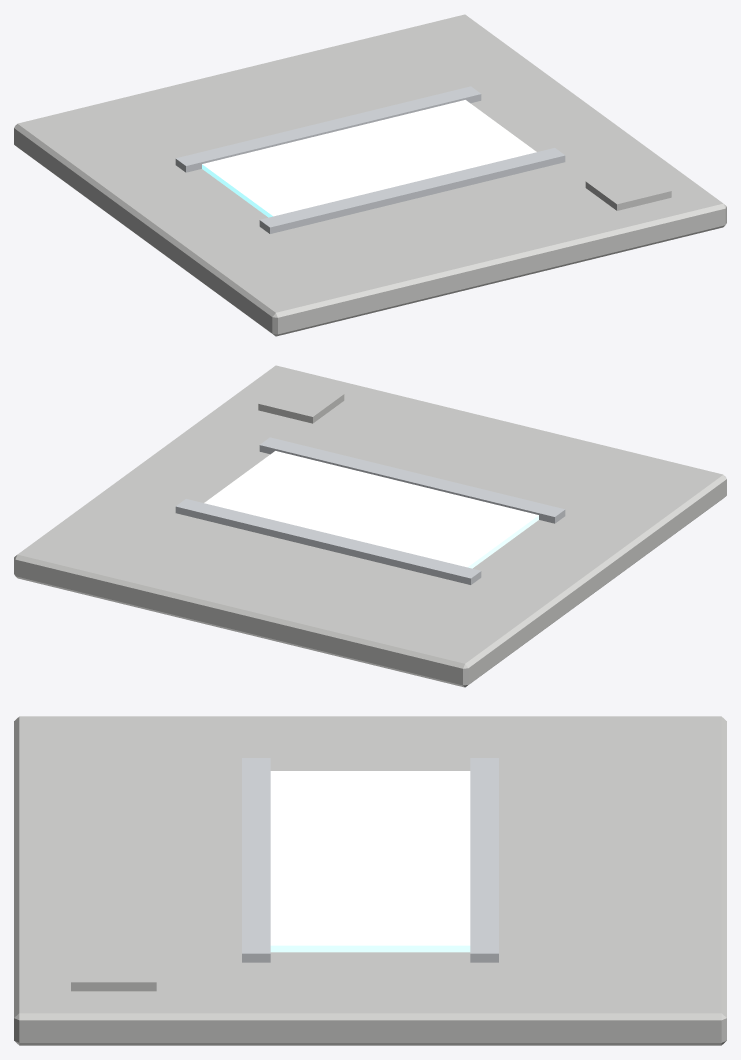
File: ct-room-ceiling.glb
3 renders of one model, top to bottom at view 1: azimuth 30°, elevation 25°; view 2: azimuth 150°, elevation 25°; view 3: azimuth 270°, elevation 25°, orthographic. The views are drawn at different scales.
Parts seen in each view (by area): view 1: ceiling-light-panel; view 2: ceiling-light-panel; view 3: ceiling-light-panel.
Part boxes in pixels (bbox=[...]): ceiling-light-panel: bbox=[14, 14, 726, 336]; ceiling-light-panel: bbox=[14, 365, 726, 687]; ceiling-light-panel: bbox=[14, 716, 726, 1045].
Size of the model in its own units: 2 by 0.128 by 2.
